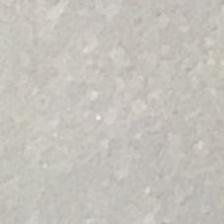Non_Crack: (21, 11, 204, 224)
